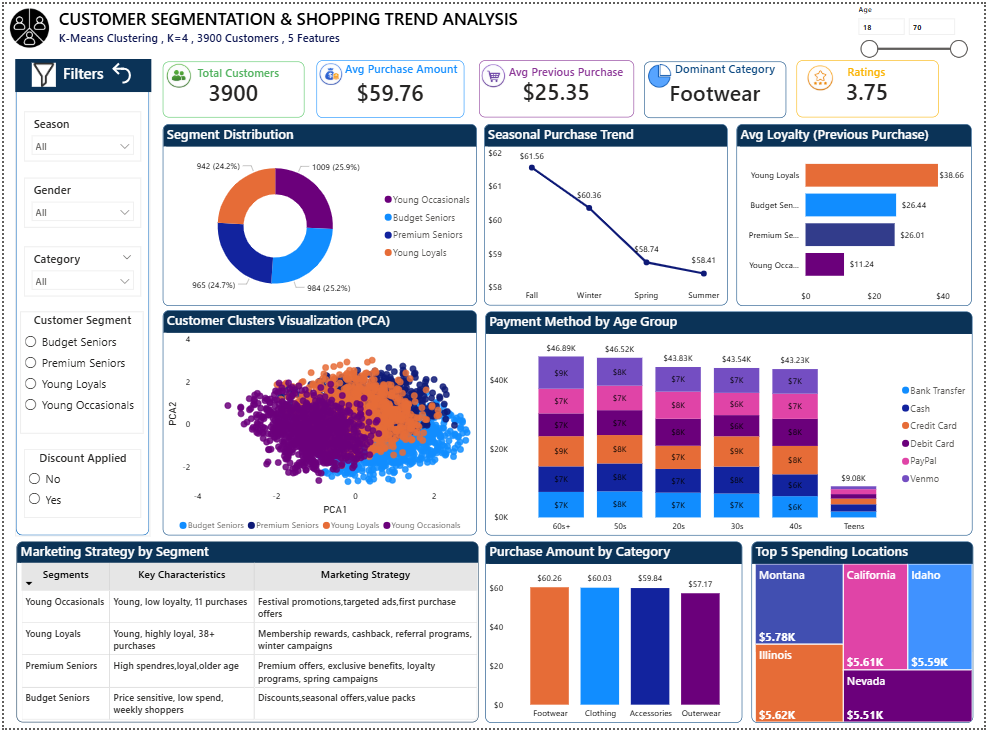

This screenshot's page, from the dashboard's own definition file:
{"tool":"powerbi","page":{"name":"Customer Segmentation","canvas":[1400,1035],"ordinal":0},"visuals":[{"type":"image","box":[0,3.6,72.7,61.8],"z":0},{"type":"cardVisual","title":"Total Customers","fields":{"Data":["Avg(Sheet1.Purchase_Amount_USD)"]},"box":[446.7,80.9,211.1,82.3],"z":0,"group":"g1"},{"type":"cardVisual","title":"Total Customers","fields":{"Data":["Avg(Sheet1.Previous_Purchases)"]},"box":[678.2,80,221.8,81.8],"z":1000},{"type":"cardVisual","title":"Total Customers","fields":{"Data":["CountNonNull(Sheet1.Customer_ID)"]},"box":[227.3,81.6,202.6,80.1],"z":1000,"group":"g1"},{"type":"textbox","box":[73.2,0,807.1,66.1],"z":2000},{"type":"cardVisual","title":"Total Customers","fields":{"Data":["Sheet1.Dominant Category"]},"box":[914,81.5,203.6,80.8],"z":2000,"group":"g1"},{"type":"shape","title":"Filters","box":[16.4,80,192.7,680],"z":3000},{"type":"cardVisual","title":"Total Customers","fields":{"Data":["Avg(Sheet1.Review_Rating)"]},"box":[1132.2,80.9,203,81.9],"z":3000,"group":"g1"},{"type":"textbox","box":[15.7,78.7,194.2,47.2],"z":4000},{"type":"image","box":[232.2,81.6,35.4,40.7],"z":4000,"group":"g1"},{"type":"textbox","box":[482.8,76.6,192,33.2],"z":5000,"group":"g1"},{"type":"pieChart","title":"Segment Distribution","fields":{"Category":["Sheet1.Customer_Segment"],"Y":["CountNonNull(Sheet1.Customer_ID)"]},"box":[227.3,170.9,449.1,260],"z":5000},{"type":"textbox","box":[272.8,81.4,160.9,38.5],"z":6000,"group":"g1"},{"type":"columnChart","title":"Purchase Amount by Category","fields":{"Category":["Sheet1.Category"],"Y":["Avg(Sheet1.Purchase_Amount_USD)"]},"box":[687.8,768.1,367.4,258.9],"z":6000},{"type":"textbox","box":[715.9,80.1,183.6,41.8],"z":7000,"group":"g1"},{"type":"barChart","title":"Avg Loyalty (Previous Purchase)","fields":{"Category":["Sheet1.Customer_Segment"],"Y":["Avg(Sheet1.Previous_Purchases)"]},"box":[1047.3,170.9,336.4,260],"z":7000},{"type":"textbox","box":[954.2,77.5,164.4,38.5],"z":8000,"group":"g1"},{"type":"lineChart","title":"Seasonal Purchase Trend","fields":{"Category":["Sheet1.Season"],"Y":["Avg(Sheet1.Purchase_Amount_USD)"]},"box":[685.7,171.4,348.2,258.9],"z":8000},{"type":"textbox","box":[1200,79.6,108.3,34.6],"z":9000,"group":"g1"},{"type":"scatterChart","title":"Customer Clusters Visualization (PCA)","fields":{"X":["Sheet1.PCA1"],"Y":["Sheet1.PCA2"],"Series":["Sheet1.Customer_Segment"]},"box":[227.3,438.2,449.1,321.8],"z":9000},{"type":"image","box":[451.1,82.4,33.2,36.1],"z":10000,"group":"g1"},{"type":"columnChart","title":"Payment Method by Age Group","fields":{"Category":["Sheet1.Age_Group"],"Series":["Sheet1.Payment_Method"],"Y":["Sum(Sheet1.Purchase_Amount_USD)"]},"box":[687.3,440,696.4,320],"z":10000},{"type":"image","box":[679.8,85.1,40.4,33.2],"z":11000,"group":"g1"},{"type":"treemap","title":"Top 5 Spending Locations","fields":{"Group":["Sheet1.Location"],"Values":["Sum(Sheet1.Purchase_Amount_USD)"]},"box":[1067.4,768.1,316.6,258.9],"z":11000},{"type":"image","box":[918.5,85.1,37.5,33.2],"z":12000,"group":"g1"},{"type":"tableEx","title":"Marketing Strategy by Segment","fields":{"Values":["Maeketing Strategy.Segments","Maeketing Strategy.Key Characteristics","Maeketing Strategy.Marketing Strategy"]},"box":[18.5,767.2,660,258.2],"z":12000},{"type":"slicer","fields":{"Values":["Sheet1.Age"]},"box":[1192.7,0,207.3,85.5],"z":13000},{"type":"image","box":[1143.4,86.5,46.2,36.1],"z":13000,"group":"g1"},{"type":"group","id":"g1","title":"Group 1","box":[227.3,76.6,1107.9,86.6],"z":14000},{"type":"slicer","fields":{"Values":["Sheet1.Season"]},"box":[29.1,152.7,167.3,70.9],"z":15000},{"type":"listSlicer","title":"Customer Segment","fields":{"Values":["Sheet1.Customer_Segment"]},"box":[23.6,440,176.4,174.5],"z":16000},{"type":"listSlicer","title":"Discount Applied","fields":{"Values":["Sheet1.Discount_Applied"]},"box":[29.1,636.4,167.3,98.2],"z":17000},{"type":"slicer","fields":{"Values":["Sheet1.Gender"]},"box":[29.1,248.9,167.3,70.9],"z":17001},{"type":"slicer","fields":{"Values":["Sheet1.Category"]},"box":[29.1,347.1,167.3,70.9],"z":17002},{"type":"image","box":[36.4,83.6,41.8,34.5],"z":17003},{"type":"actionButton","box":[149.1,78.2,60,40],"z":17004}]}

Visuals, with their boxes in screenshot pixels (x1, y1, x2, y2), scaled from the page's 1400x1035 canvas onto the 986x732 screenshot:
image: [x1=0, y1=3, x2=51, y2=46]
"Total Customers" cardVisual: [x1=315, y1=57, x2=463, y2=115]
"Total Customers" cardVisual: [x1=478, y1=57, x2=634, y2=114]
"Total Customers" cardVisual: [x1=160, y1=58, x2=303, y2=114]
textbox: [x1=52, y1=0, x2=620, y2=47]
"Total Customers" cardVisual: [x1=644, y1=58, x2=787, y2=115]
"Filters" shape: [x1=12, y1=57, x2=147, y2=538]
"Total Customers" cardVisual: [x1=797, y1=57, x2=940, y2=115]
textbox: [x1=11, y1=56, x2=148, y2=89]
image: [x1=164, y1=58, x2=188, y2=86]
textbox: [x1=340, y1=54, x2=475, y2=78]
"Segment Distribution" pieChart: [x1=160, y1=121, x2=476, y2=305]
textbox: [x1=192, y1=58, x2=305, y2=85]
"Purchase Amount by Category" columnChart: [x1=484, y1=543, x2=743, y2=726]
textbox: [x1=504, y1=57, x2=634, y2=86]
"Avg Loyalty (Previous Purchase)" barChart: [x1=738, y1=121, x2=975, y2=305]
textbox: [x1=672, y1=55, x2=788, y2=82]
"Seasonal Purchase Trend" lineChart: [x1=483, y1=121, x2=728, y2=304]
textbox: [x1=845, y1=56, x2=921, y2=81]
"Customer Clusters Visualization (PCA)" scatterChart: [x1=160, y1=310, x2=476, y2=538]
image: [x1=318, y1=58, x2=341, y2=84]
"Payment Method by Age Group" columnChart: [x1=484, y1=311, x2=975, y2=538]
image: [x1=479, y1=60, x2=507, y2=84]
"Top 5 Spending Locations" treemap: [x1=752, y1=543, x2=975, y2=726]
image: [x1=647, y1=60, x2=673, y2=84]
"Marketing Strategy by Segment" tableEx: [x1=13, y1=543, x2=478, y2=725]
slicer - Sheet1.Age: [x1=840, y1=0, x2=985, y2=60]
image: [x1=805, y1=61, x2=838, y2=87]
"Group 1" group: [x1=160, y1=54, x2=940, y2=115]
slicer - Sheet1.Season: [x1=20, y1=108, x2=138, y2=158]
"Customer Segment" listSlicer: [x1=17, y1=311, x2=141, y2=435]
"Discount Applied" listSlicer: [x1=20, y1=450, x2=138, y2=520]
slicer - Sheet1.Gender: [x1=20, y1=176, x2=138, y2=226]
slicer - Sheet1.Category: [x1=20, y1=245, x2=138, y2=296]
image: [x1=26, y1=59, x2=55, y2=84]
actionButton: [x1=105, y1=55, x2=147, y2=84]
